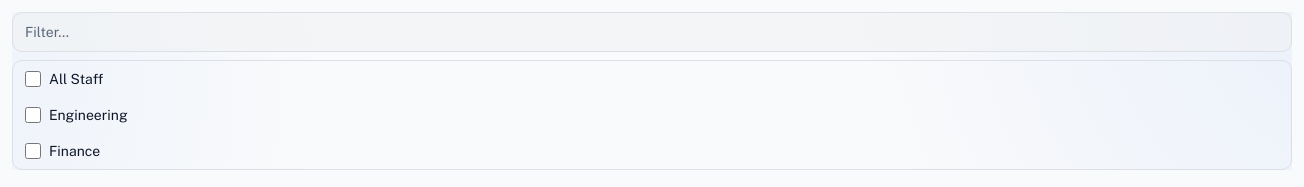
Scenario: MultiSelect › says so when the filter matches none of the options
Type "zzz" into the field with placeholder "Filter…" at x=652, y=32, box top-left (12, 12), bottom-right (1292, 52)
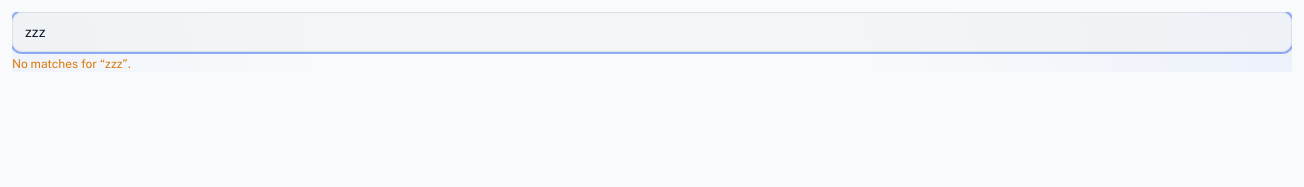
Expected: the text "No matches for “zzz”." is shown, top-left (12, 57), bottom-right (131, 71)
